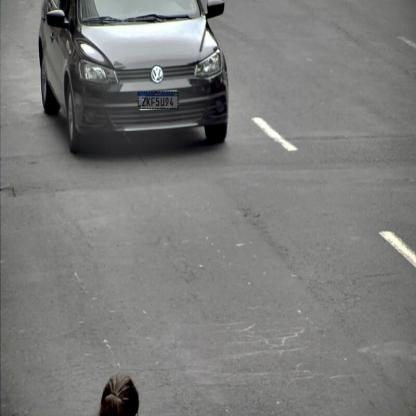PlacaM: (138, 91, 178, 109)
